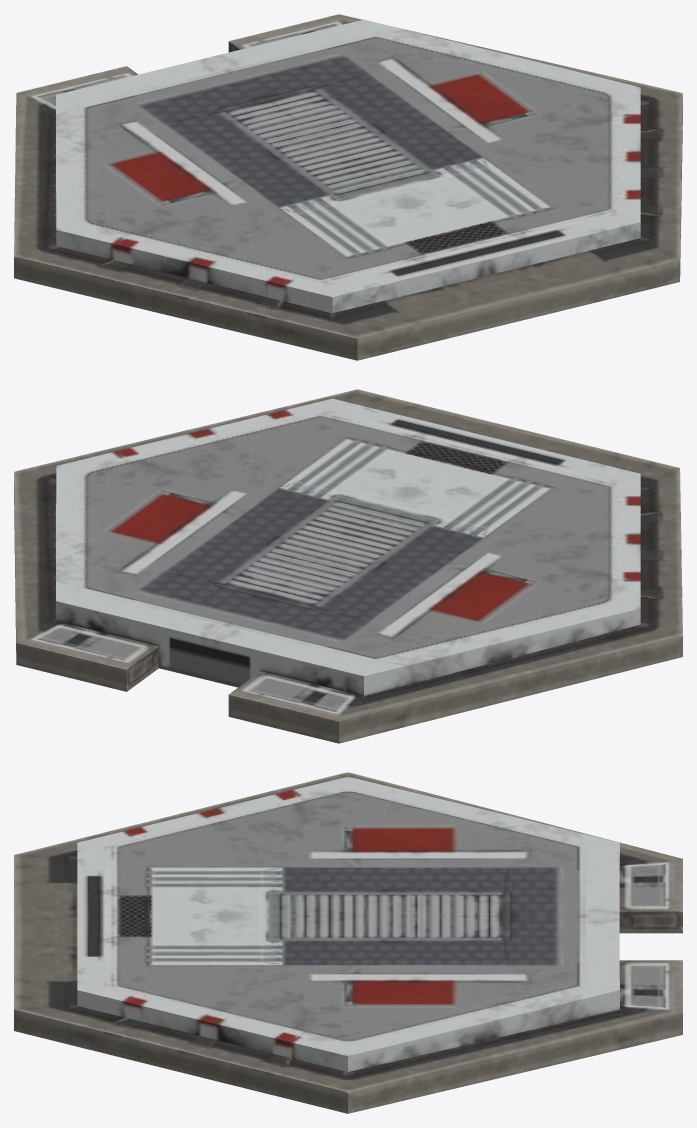
The model's file is Part - Pad 07-BMObB3UE.glb.
3 views of the same model, one above another, from view 1: azimuth 30°, elevation 25°; view 2: azimuth 150°, elevation 25°; view 3: azimuth 270°, elevation 25° (orthographic).
Visible parts, largest first — view 1: Pad_07; view 2: Pad_07; view 3: Pad_07.
Boxes of the visible parts, x1=… form: Pad_07: x1=14, y1=14, x2=682, y2=360; Pad_07: x1=14, y1=389, x2=682, y2=743; Pad_07: x1=14, y1=772, x2=682, y2=1113.
Bounding box in the file's own units: 3.37 × 0.2027 × 2.98.
Materials: 1 (1 with a texture image).
